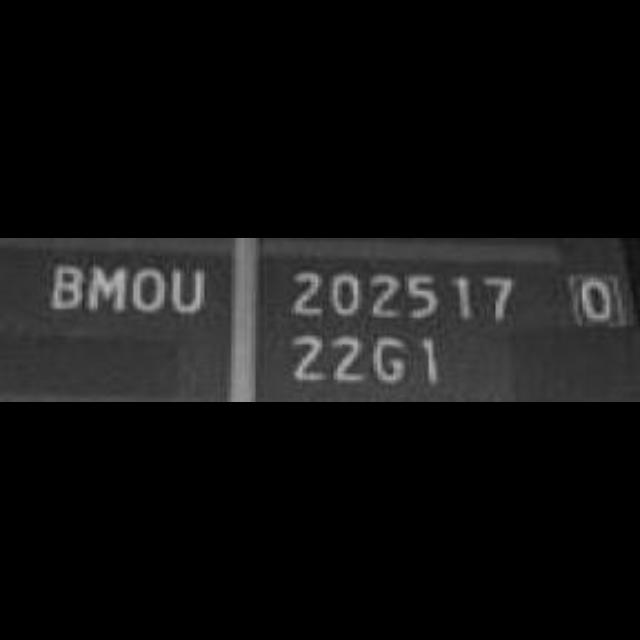0: (574, 272, 618, 326), (328, 268, 362, 320)
1: (415, 334, 445, 388), (448, 273, 476, 319)
2: (290, 331, 326, 385), (366, 268, 402, 322), (332, 331, 366, 387), (290, 269, 322, 319)
5: (405, 268, 441, 324)
7: (482, 270, 516, 324)
b: (43, 258, 85, 314)
g: (371, 332, 409, 391)
m: (89, 256, 128, 314)
o: (130, 262, 168, 318)
u: (168, 262, 208, 316)
